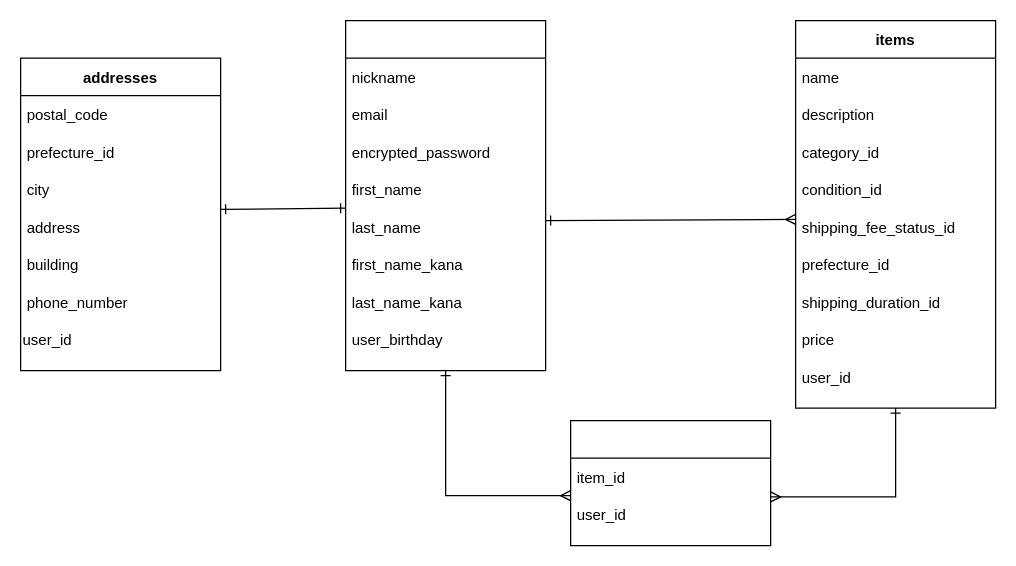
The diagram is 1016 pixels wide and 566 high, and some of its shapes have lost their labels. The box of each missing label's shape, as (x1, y1, x2, y2) in pixels:
orders: (569, 419, 771, 546)
users: (344, 19, 546, 371)
